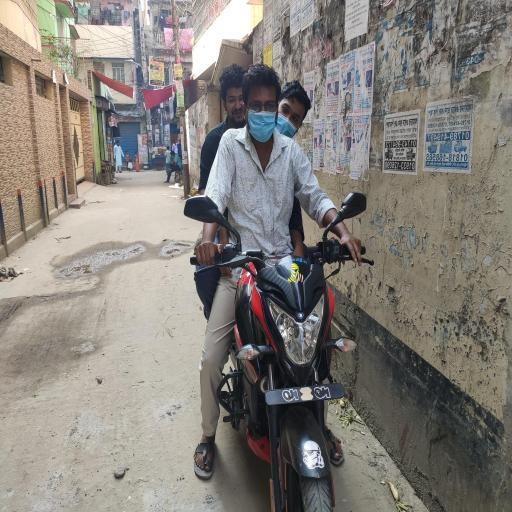no helmet: (228, 53, 283, 199)
triple riding: (146, 48, 437, 512)
